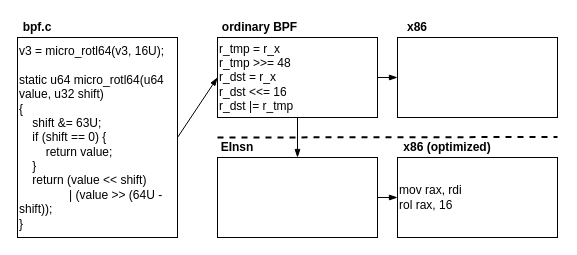
The diagram is 577 pixels wide and 255 high, and some of its shapes have lost their labels. The shapes that lost their labels are listed below. From the top down, each one's centre as x and y in pixels, then its label:
At (x=477, y=77): "mov rcx, rdi shr rcx, 48 mov rax, rdi shl rax, 16 or rax, rcx".
At (x=297, y=197): "rotate64 {dst=r7, src=r5, imm=16}".
